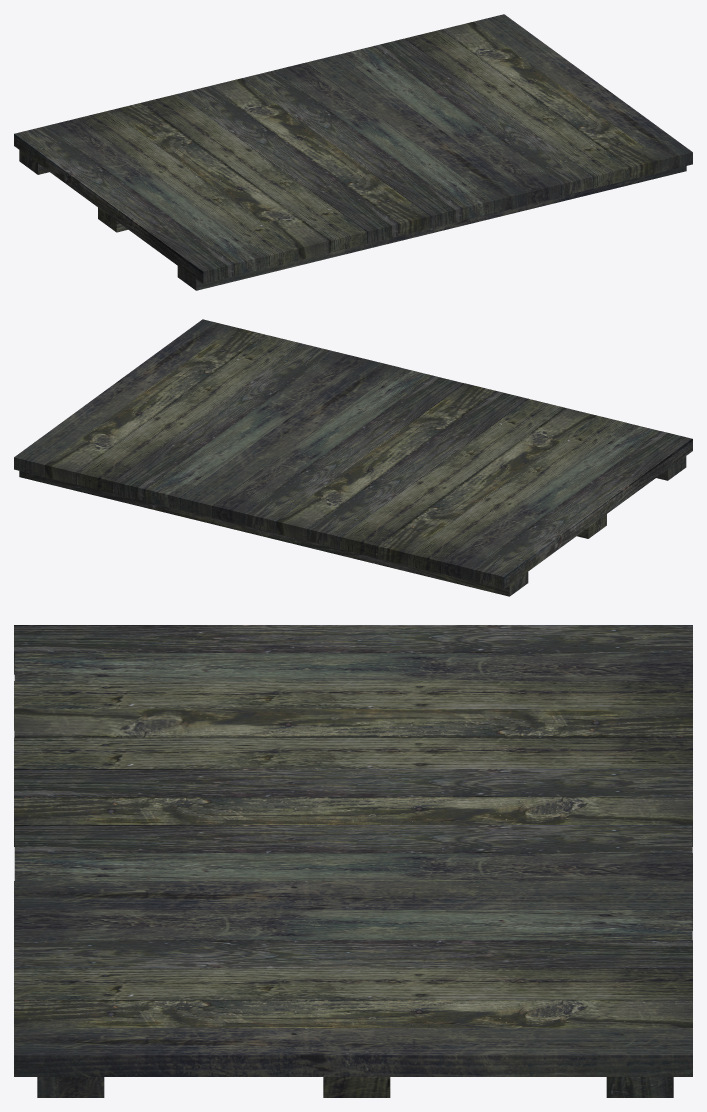
The model's file is OldWoodenFloor 2x3m.fbx.
The picture shows the model from 3 angles, top to bottom: view 1: azimuth 30°, elevation 25°; view 2: azimuth 150°, elevation 25°; view 3: azimuth 270°, elevation 25°; orthographic projection. The views are drawn at different scales.
Parts seen in each view (by area): view 1: OldWoodenFloor_2x3m; view 2: OldWoodenFloor_2x3m; view 3: OldWoodenFloor_2x3m.
Boxes of the visible parts, left/top/right/bottom form: OldWoodenFloor_2x3m: left=14, top=14, right=692, bottom=290; OldWoodenFloor_2x3m: left=14, top=319, right=692, bottom=596; OldWoodenFloor_2x3m: left=14, top=625, right=692, bottom=1097.
Bounding box in the file's own units: 3 × 0.1383 × 2.
